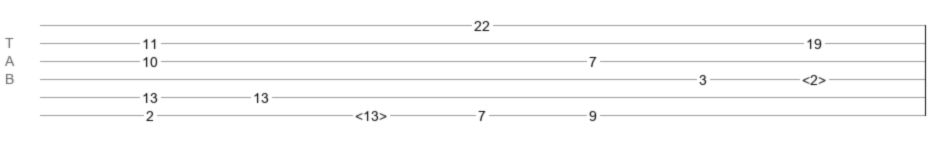10: (142, 54, 158, 64)
11: (142, 36, 158, 46)
13: (142, 90, 158, 100), (253, 90, 269, 100)
19: (806, 36, 822, 46)
2: (146, 108, 154, 118)
22: (474, 18, 490, 28)
3: (699, 72, 707, 82)
7: (478, 108, 486, 118), (589, 54, 597, 64)
9: (589, 108, 597, 118)
harmonic: (355, 108, 387, 118), (802, 72, 826, 82)
